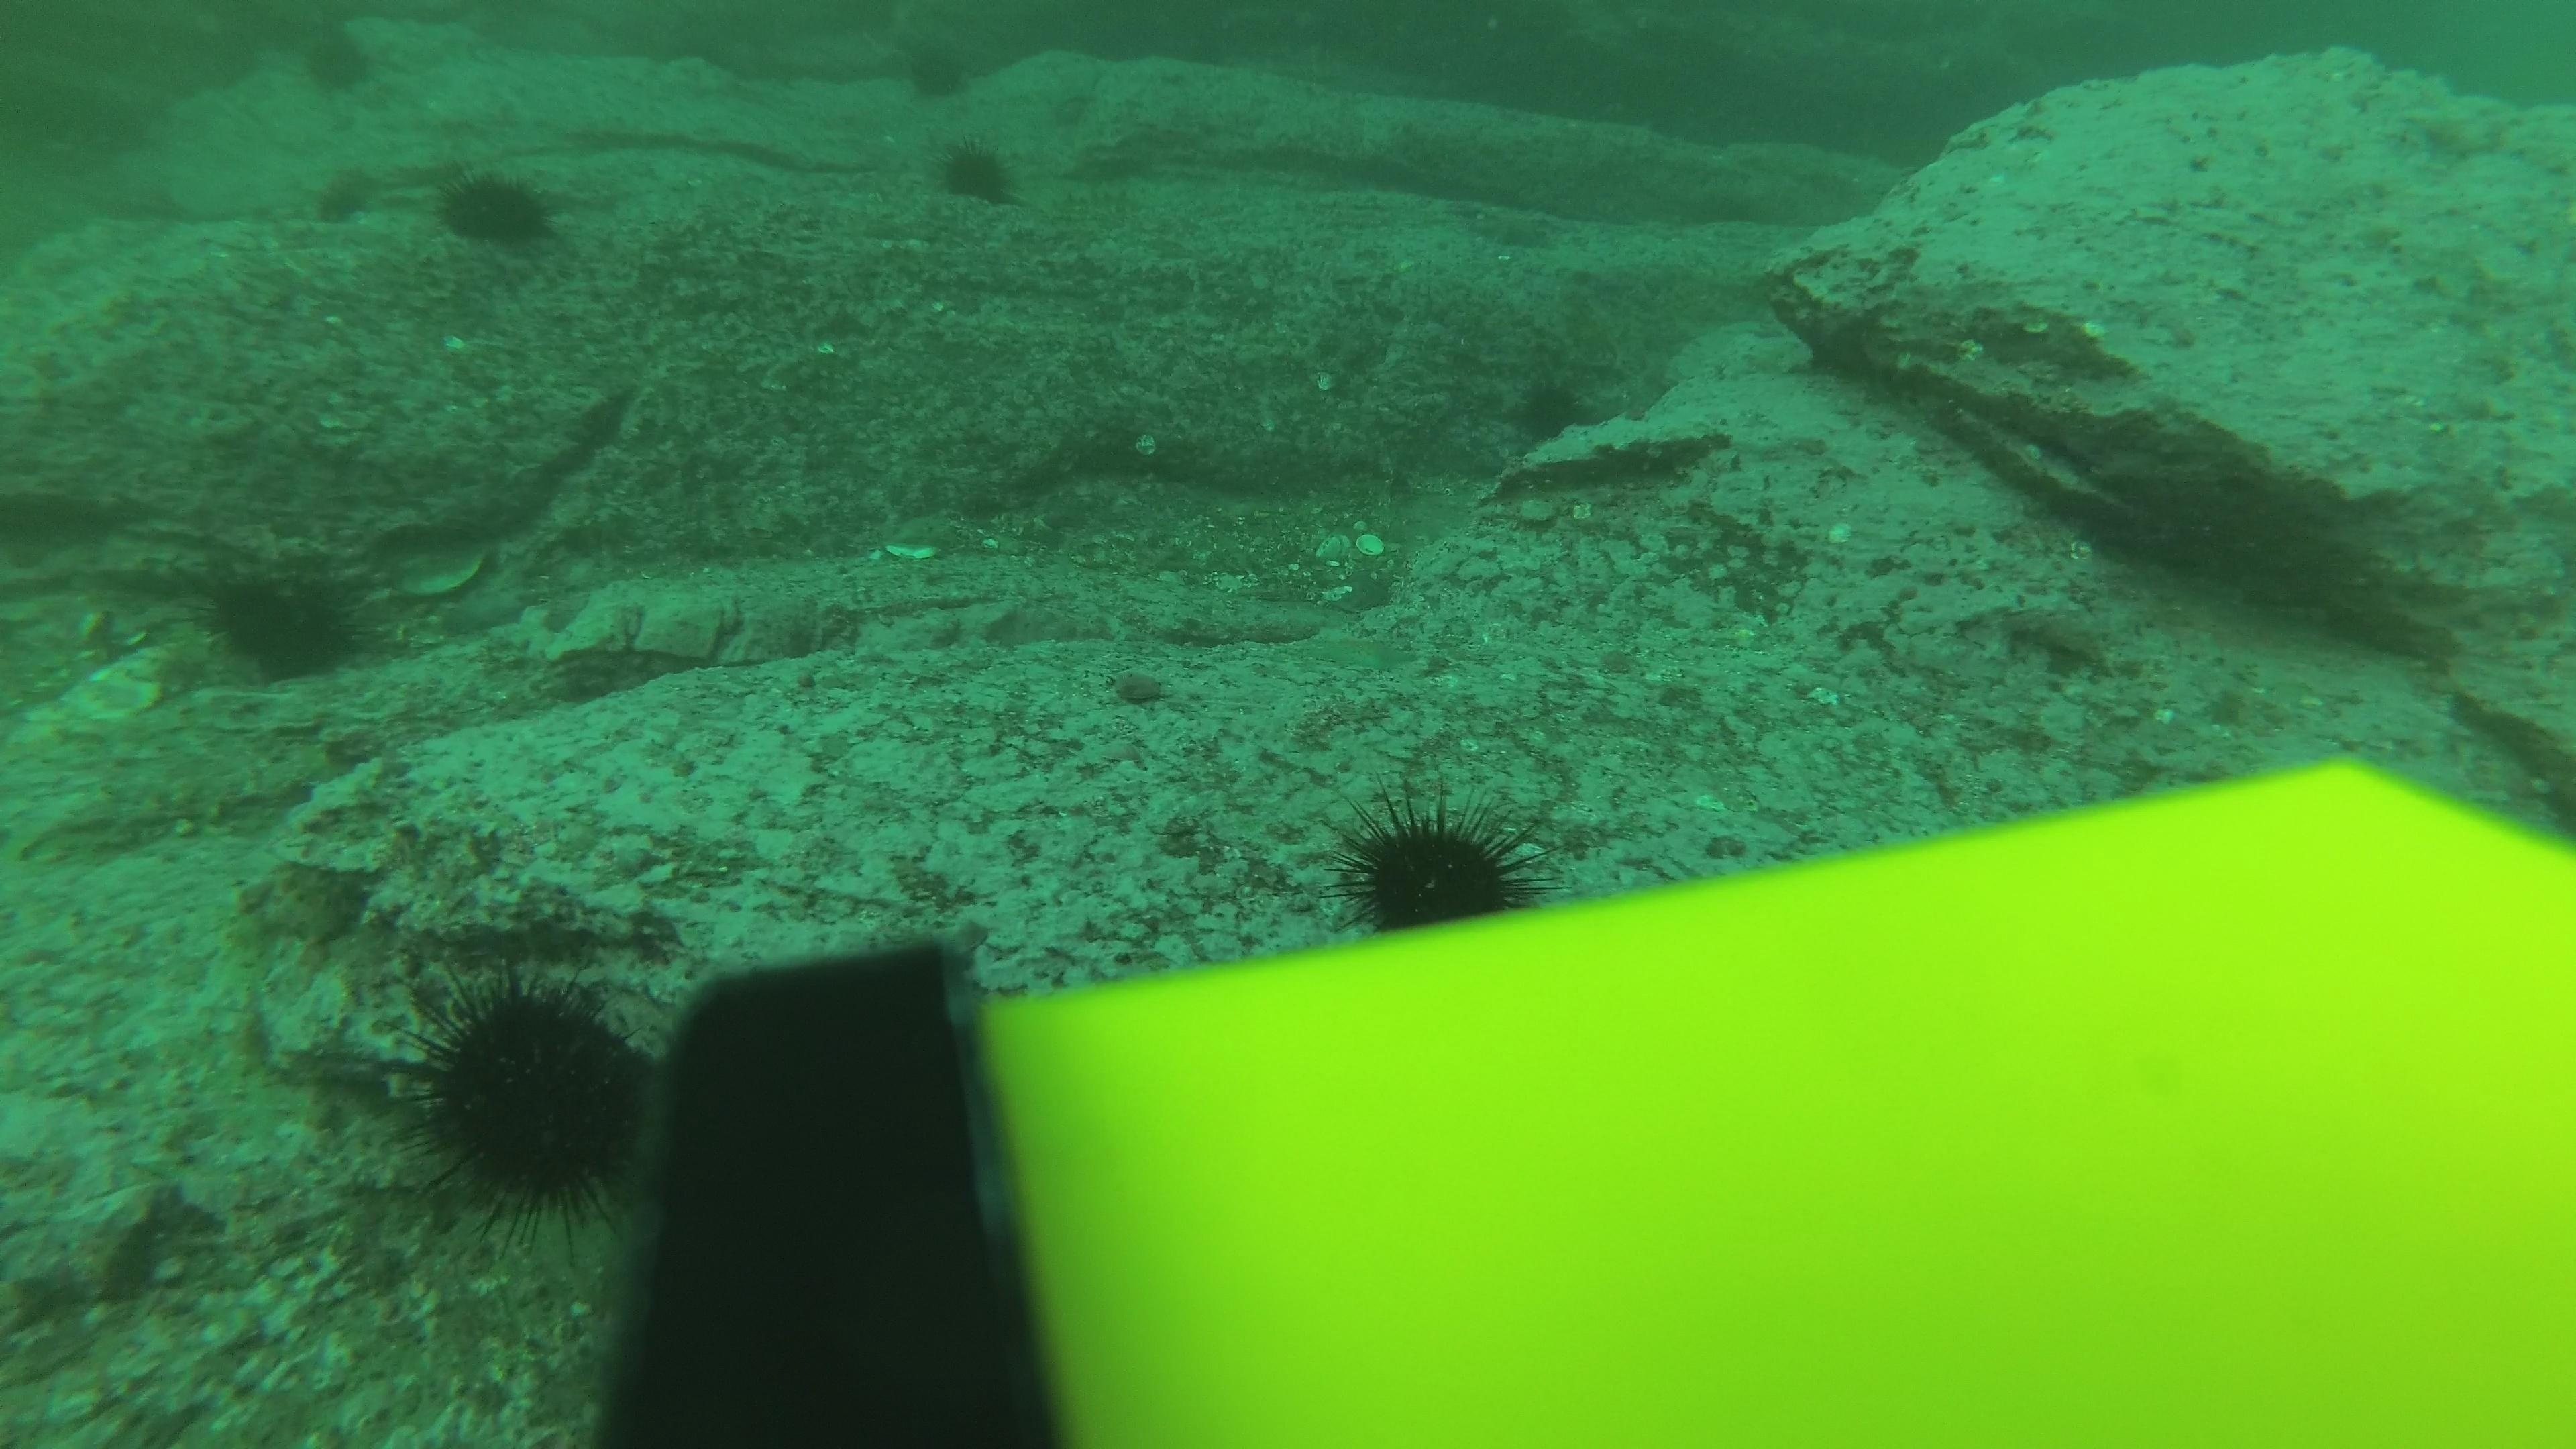echinus: (391, 962, 663, 1240), (1330, 789, 1546, 934), (196, 552, 375, 685), (433, 161, 563, 255), (929, 133, 1024, 211), (294, 23, 382, 99), (1507, 370, 1594, 446), (895, 37, 978, 106)
